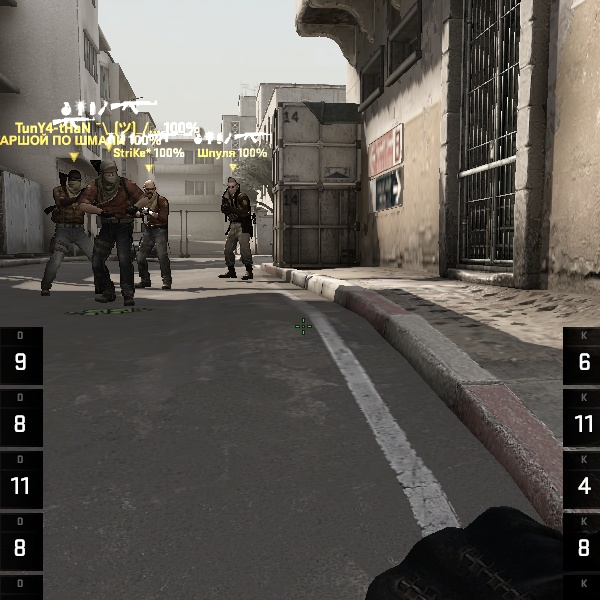t_body: (83, 159, 142, 300), (44, 167, 96, 294), (209, 173, 263, 281), (134, 178, 179, 291)
t_head: (94, 158, 123, 185), (61, 168, 87, 192), (140, 178, 161, 199), (222, 176, 243, 196)
